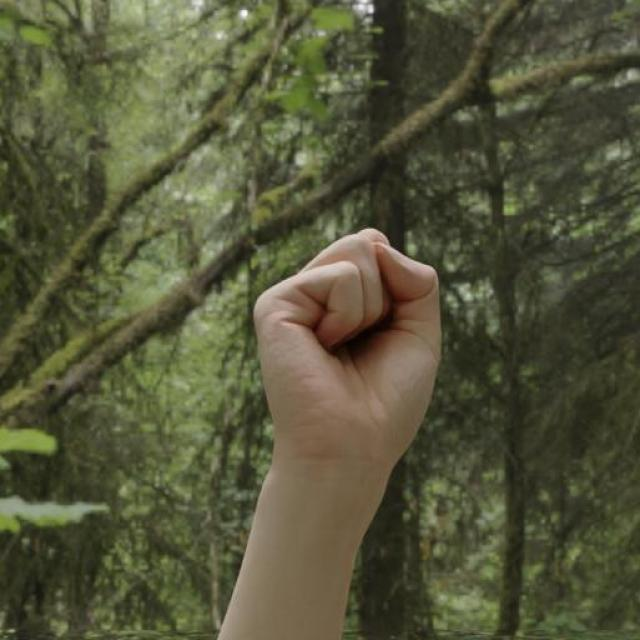S: (248, 226, 446, 480)
